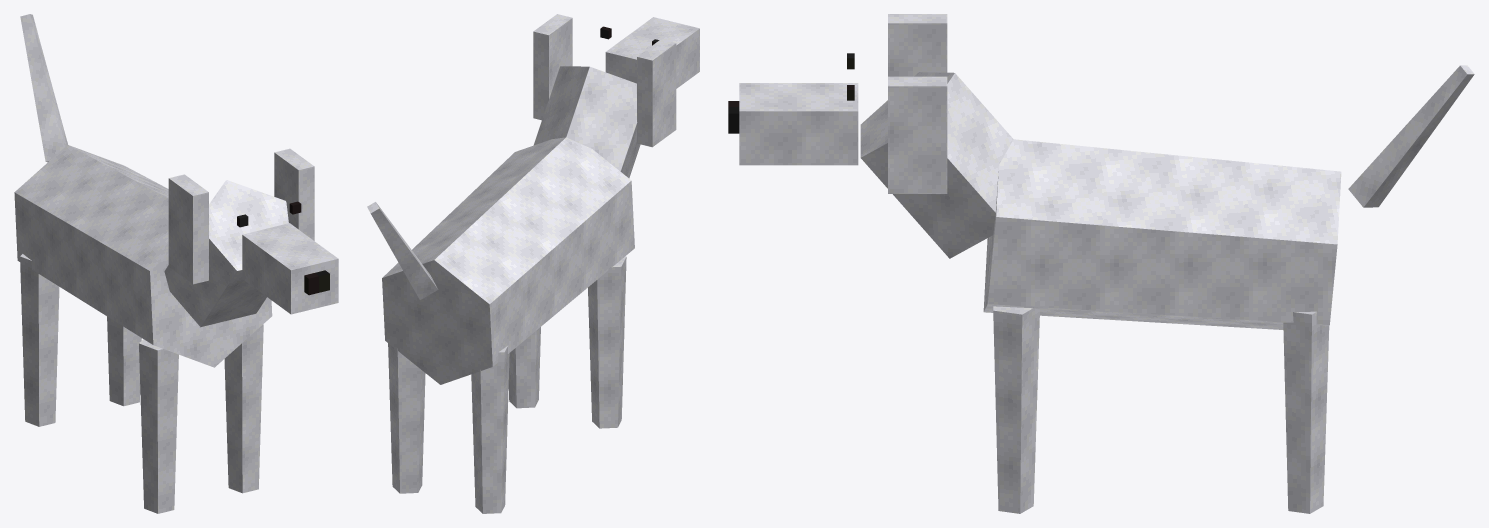
The model's file is perro.obj.
3 views of the same model, side by side, from view 1: azimuth 30°, elevation 25°; view 2: azimuth 150°, elevation 25°; view 3: azimuth 270°, elevation 25° (orthographic). The views are drawn at different scales.
Parts seen in each view (by area): view 1: perro; view 2: perro; view 3: perro.
Part boxes in pixels (<box>): perro: <box>14,14,338,513</box>; perro: <box>367,14,699,513</box>; perro: <box>728,14,1474,513</box>.
Size of the model in its own units: 0.23 by 0.64 by 1.
Materials: 2 (2 with a texture image).
